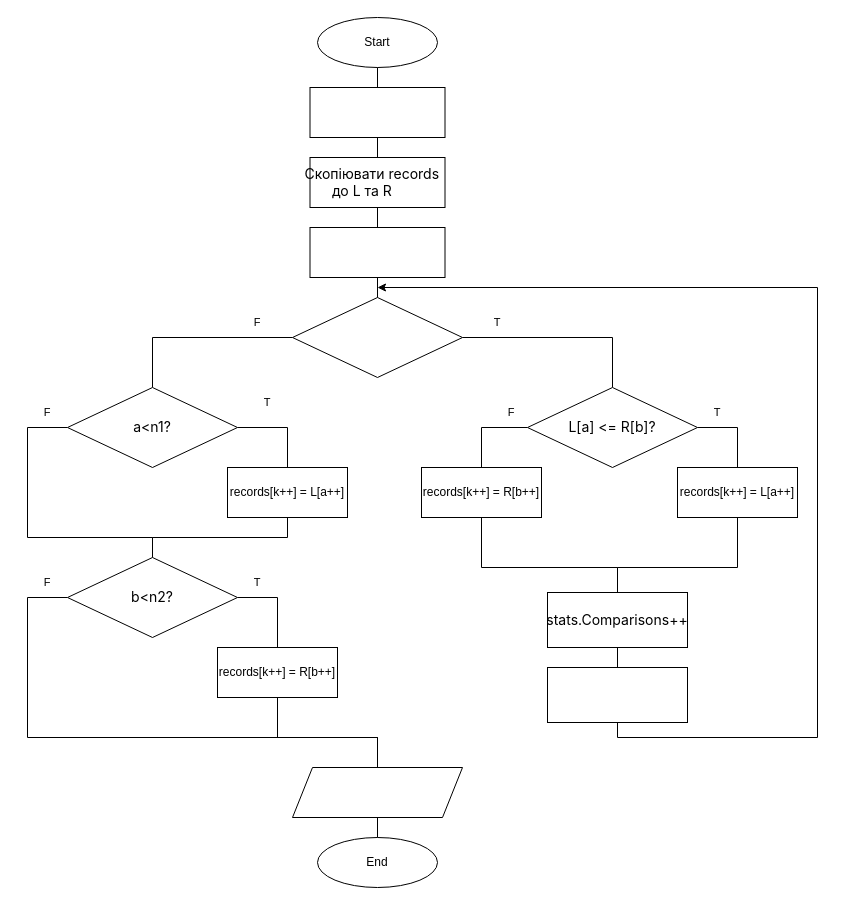
The diagram is 843 pixels wide and 905 high, and some of its shapes have lost their labels. The shapes that lost their labels are listed below. From the top down, each one's centre as x and y in pixels, then its label:
At point 377,112: "Виділити масиви L[n1] та R[n2]".
At point 377,252: "a=0, b=0, k=left".
At point 377,337: "a<n1 та b<n2?".
At point 617,694: "stats.Copies++".
At point 377,792: "printIntermediateSteps (left, right)".
